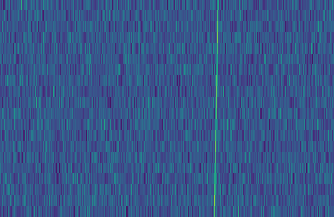signal: (210, 0, 223, 217)
